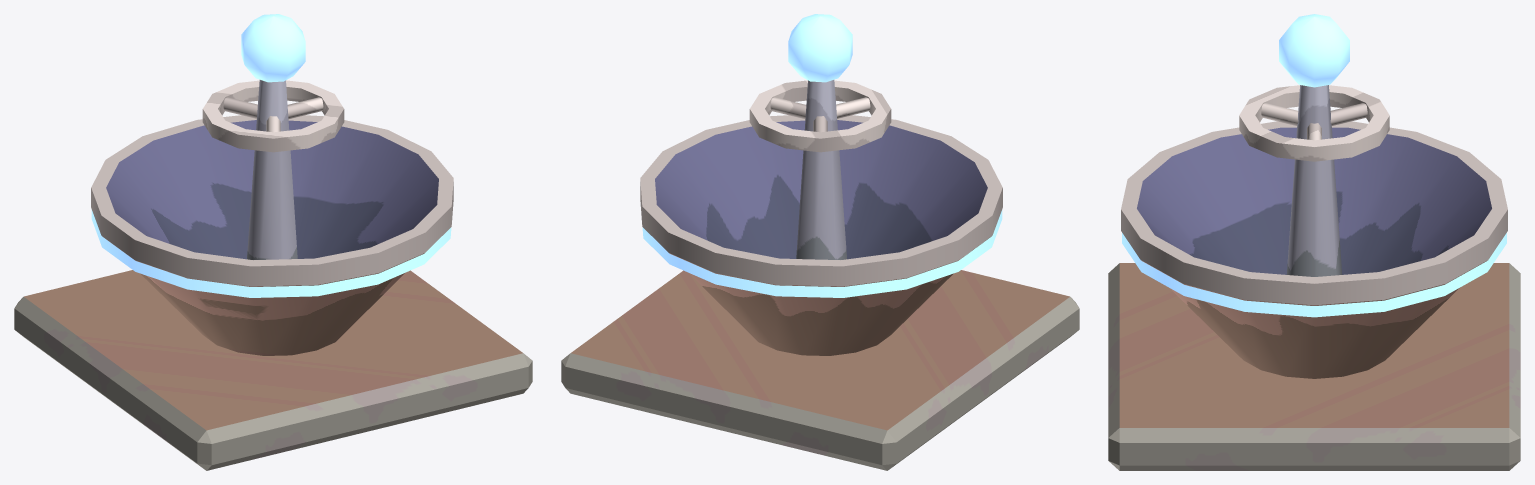
File: R4X_ScannerPulse_LOD1.glb
The picture shows the model from 3 angles, left to right: view 1: azimuth 30°, elevation 25°; view 2: azimuth 150°, elevation 25°; view 3: azimuth 270°, elevation 25°; orthographic projection. The views are drawn at different scales.
Parts seen in each view (by area): view 1: R4X_ScannerPulse_LOD1; view 2: R4X_ScannerPulse_LOD1; view 3: R4X_ScannerPulse_LOD1.
Part boxes in pixels (<box>): R4X_ScannerPulse_LOD1: <box>14,14,532,470</box>; R4X_ScannerPulse_LOD1: <box>561,14,1079,470</box>; R4X_ScannerPulse_LOD1: <box>1108,14,1520,470</box>.
Bounding box in the file's own units: 0.52 × 0.5172 × 0.52.
5 materials, 4 textured.
